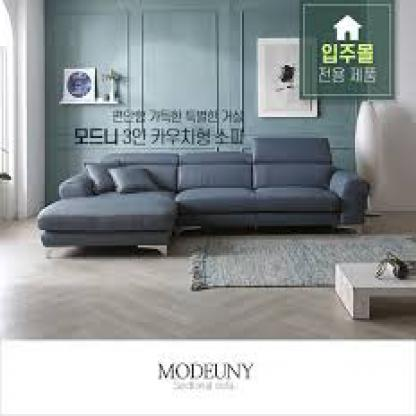sofa: (45, 143, 382, 264)
